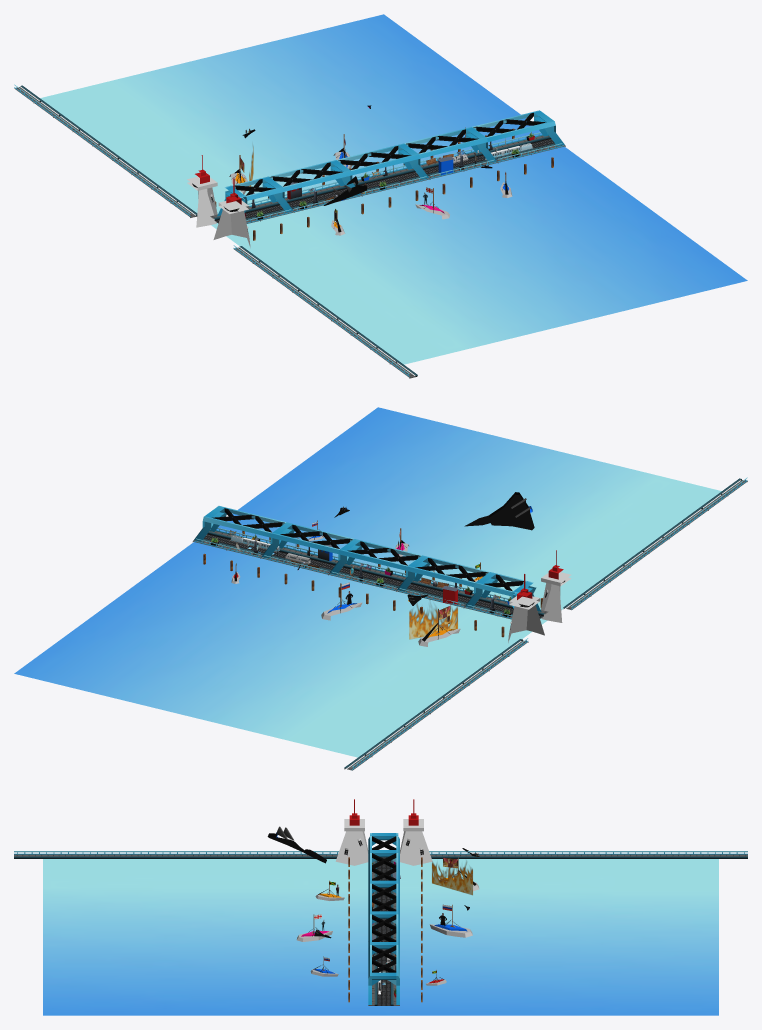
File: subwaysurferstest55.glb
3 renders of one model, top to bottom at view 1: azimuth 30°, elevation 25°; view 2: azimuth 150°, elevation 25°; view 3: azimuth 270°, elevation 25°, orthographic. The views are drawn at different scales.
Parts seen in each view (by area): view 1: Water, Overpass.002, Overpass, Overpass.001, Overpass.003, lighttower, Overpass.004, lighttower.001; view 2: Water, Overpass.003, Overpass.002, Overpass, Overpass.001, Plane1.001, lighttower.001, Overpass.004, lighttower, Fire; view 3: Water, lighttower.001, lighttower, Overpass, Fire, Overpass.002, Overpass.001, Overpass.003, Overpass.004, Plane1.001, boat1.006.
Boxes of the visible parts, x1,y1,x2,y2 form: Water: [40, 14, 747, 364]; Overpass.002: [337, 143, 429, 179]; Overpass: [472, 110, 565, 146]; Overpass.001: [404, 127, 497, 162]; Overpass.003: [269, 160, 361, 195]; lighttower: [213, 178, 250, 247]; Overpass.004: [217, 176, 293, 216]; lighttower.001: [187, 155, 217, 227]; Water: [14, 407, 721, 757]; Overpass.003: [396, 555, 489, 591]; Overpass.002: [328, 539, 421, 574]; Overpass: [193, 506, 286, 541]; Overpass.001: [261, 522, 353, 558]; Plane1.001: [464, 492, 534, 530]; lighttower.001: [508, 574, 544, 642]; Overpass.004: [464, 572, 541, 611]; lighttower: [541, 550, 571, 622]; Fire: [409, 603, 457, 639]; Water: [43, 859, 718, 1015]; lighttower.001: [400, 799, 432, 865]; lighttower: [335, 799, 368, 865]; Overpass: [368, 945, 399, 1004]; Fire: [432, 861, 472, 895]; Overpass.002: [368, 883, 399, 923]; Overpass.001: [368, 914, 399, 954]; Overpass.003: [368, 853, 399, 893]; Overpass.004: [368, 833, 399, 862]; Plane1.001: [267, 826, 326, 863]; boat1.006: [429, 904, 472, 937].
Bounding box in the file's own units: 424 × 87.32 × 808.
Materials: 6 (6 with a texture image).
